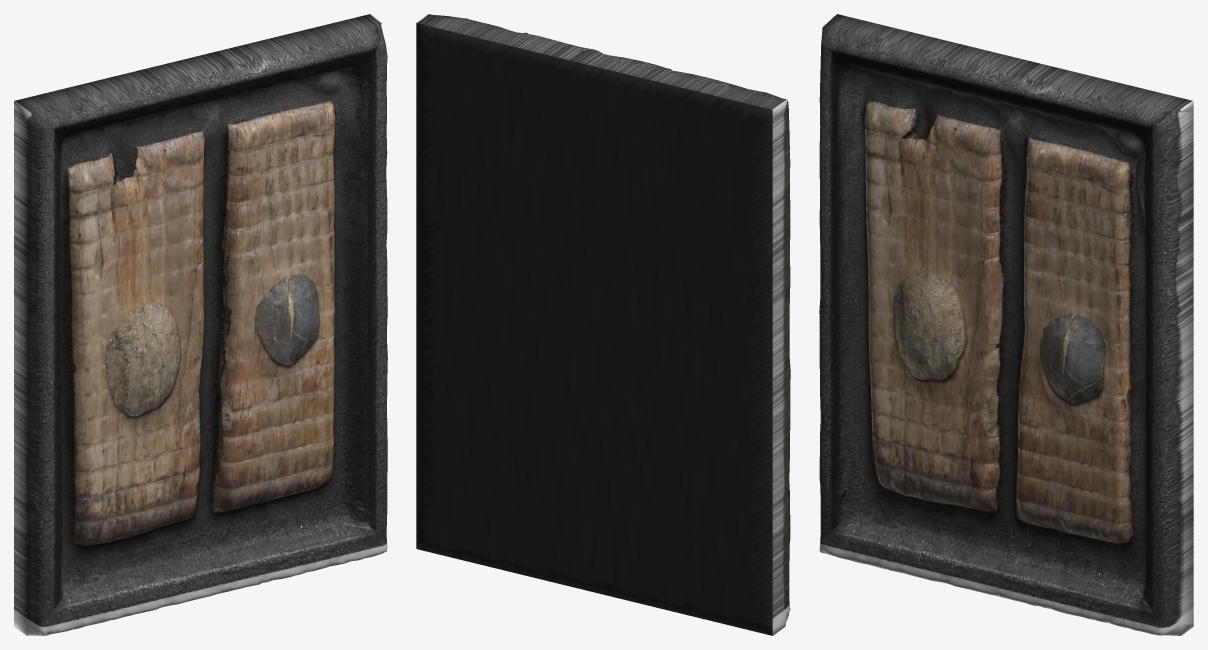
Rendered from escultura-esc-016.glb.
The picture shows the model from 3 angles, left to right: view 1: azimuth 30°, elevation 25°; view 2: azimuth 150°, elevation 25°; view 3: azimuth 330°, elevation 25°; orthographic projection.
Parts seen in each view (by area): view 1: world; view 2: world; view 3: world.
Part boxes in pixels (bbox=[...]): world: bbox=[14, 14, 387, 635]; world: bbox=[416, 14, 790, 635]; world: bbox=[819, 14, 1193, 635].
Bounding box in the file's own units: 0.397 × 0.56 × 0.0498.
1 material, 1 textured.
